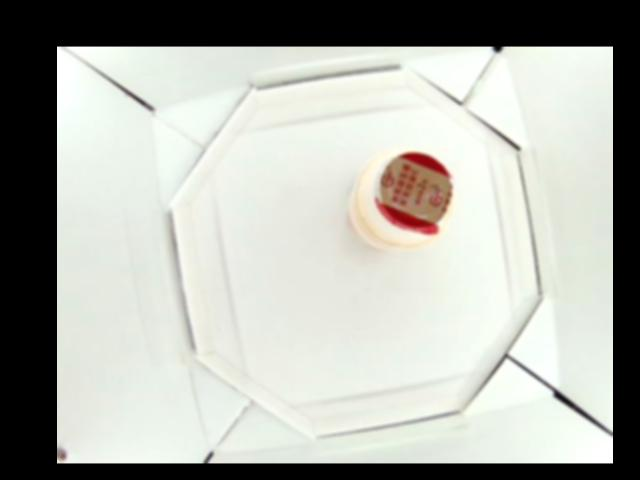Bottle: (348, 148, 453, 252)
